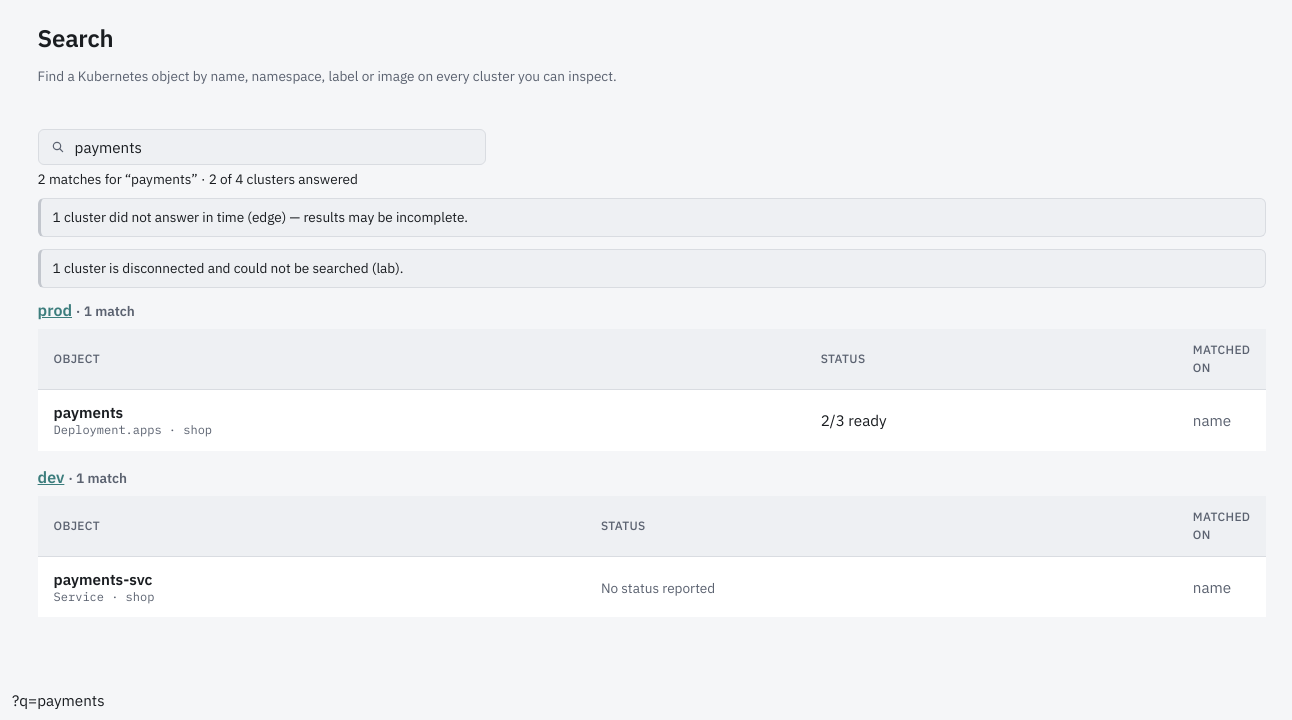
Test: SearchPage › groups hits by cluster and names the clusters that did not answer
Expected: the element named "Matches on prod" is shown, [38,300,1266,451]
Expected: the element named "Matches on dev" is shown, [38,467,1266,617]
Step 1. Click the button "payments" → (88, 412), box [54,402,123,422]
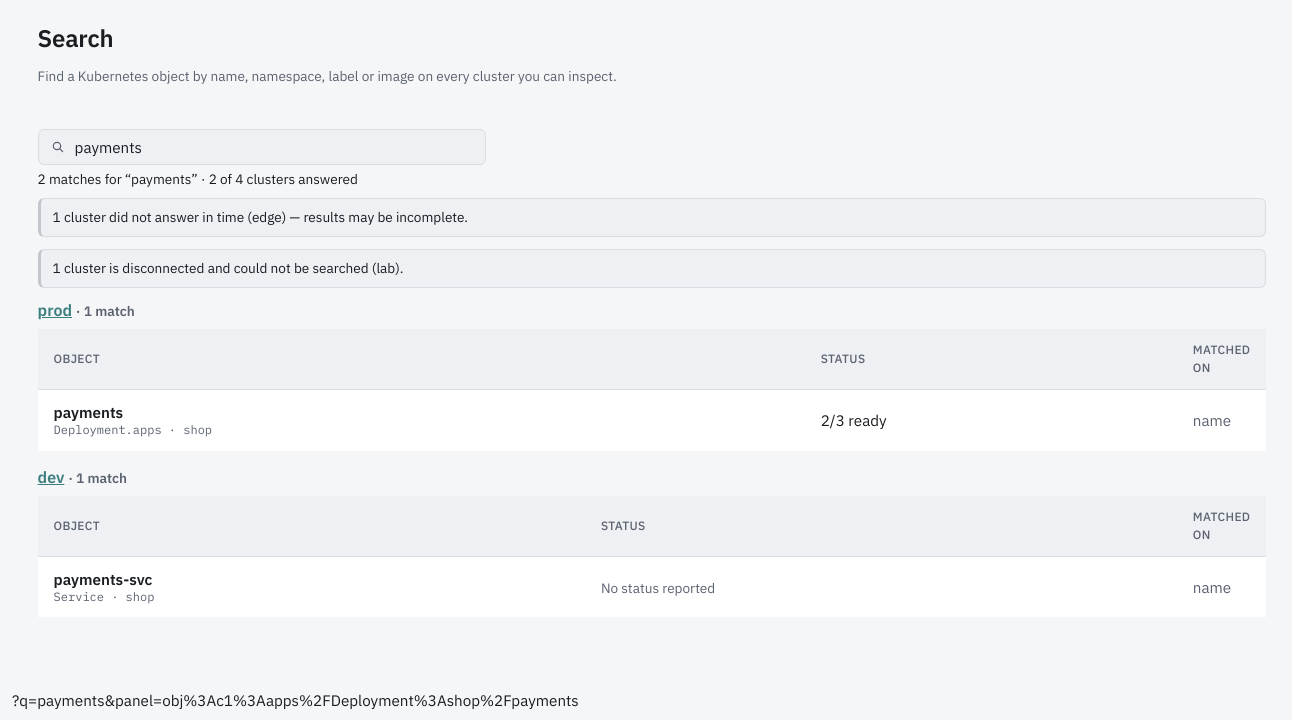
Expected: the text with test id "loc" shows "q=payments", [12,690,579,710]
Now the text with test id "loc" shows "panel=obj%3Ac1%3Aapps%2FDeployment%3Ashop%2Fpayments", box [12,690,579,710]
